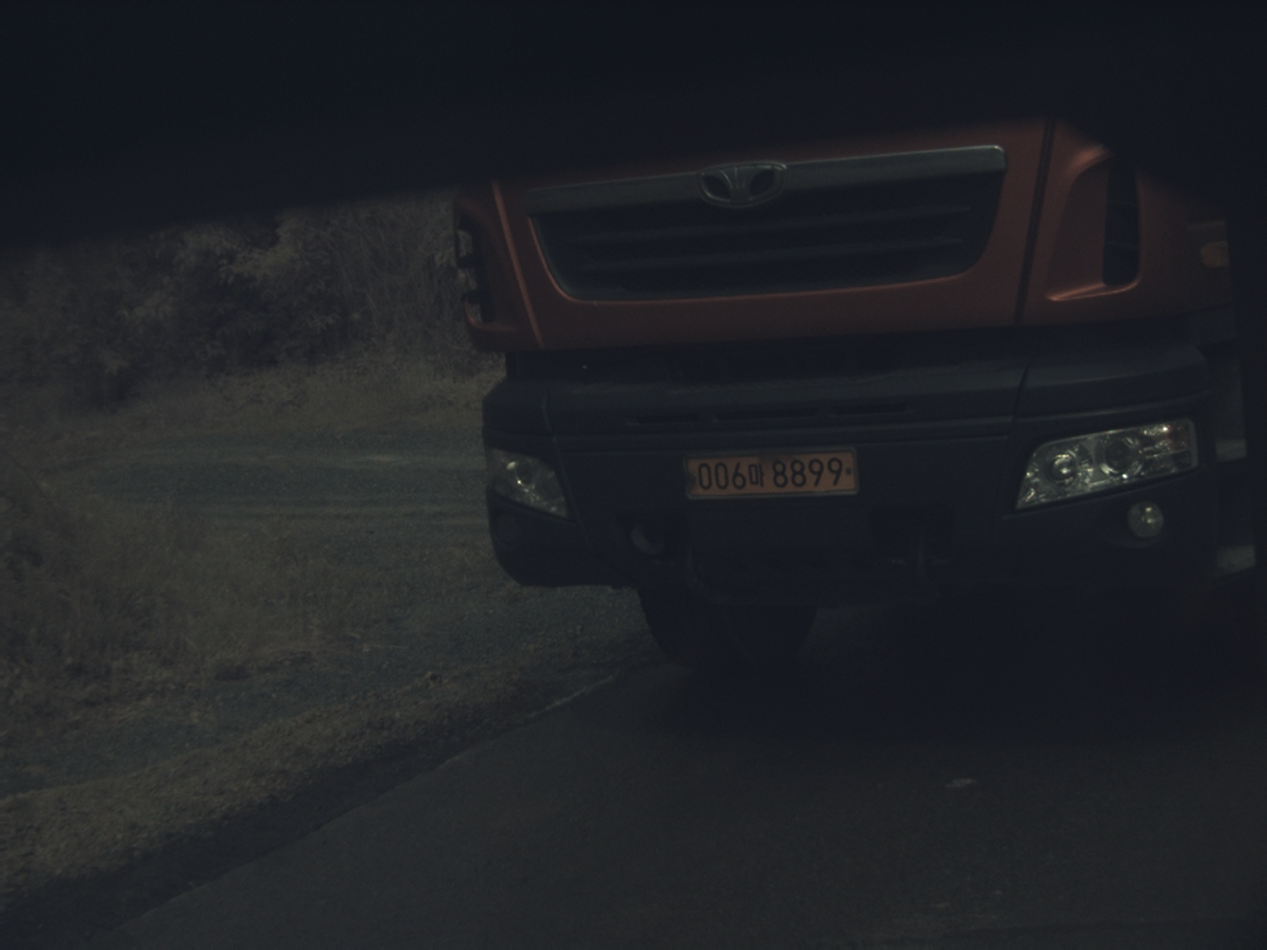license_plate: (688, 451, 856, 497)
truck: (455, 119, 1252, 668)
